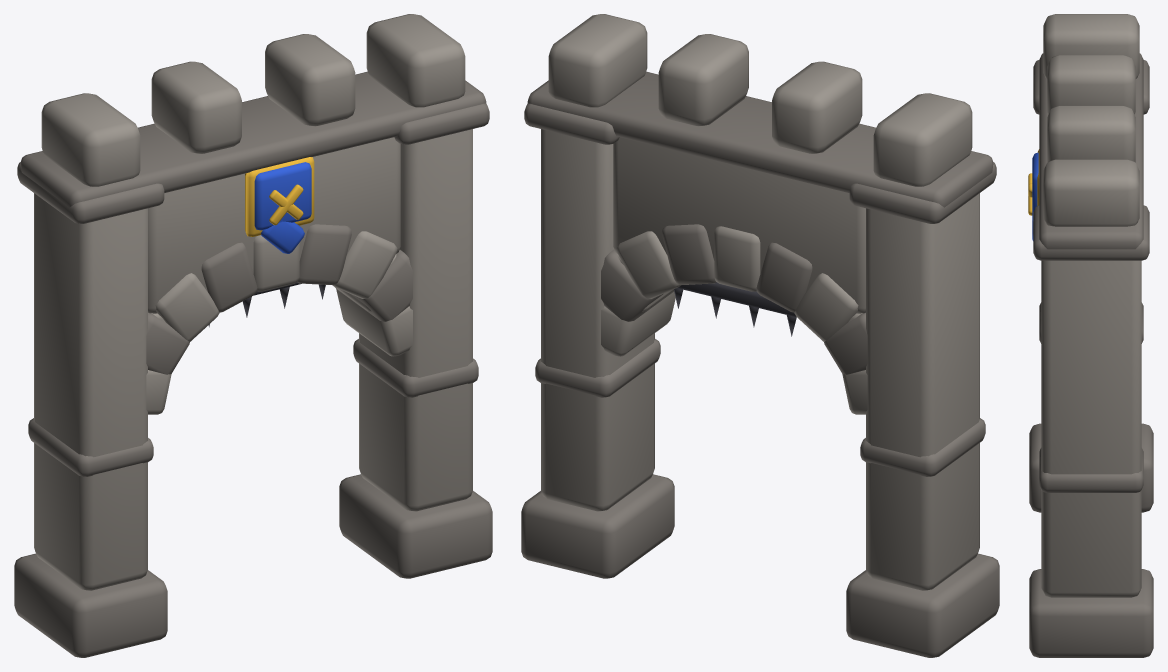
Rendered from WallGate.glb.
3 renders of one model, left to right at view 1: azimuth 30°, elevation 25°; view 2: azimuth 150°, elevation 25°; view 3: azimuth 270°, elevation 25°, orthographic. The views are drawn at different scales.
Parts seen in each view (by area): view 1: WallGate; view 2: WallGate; view 3: WallGate.
Part boxes in pixels (bbox=[...]): WallGate: bbox=[14, 14, 492, 657]; WallGate: bbox=[521, 14, 999, 657]; WallGate: bbox=[1028, 14, 1153, 657].
Size of the model in its own units: 2.22 by 2.65 by 0.625.
